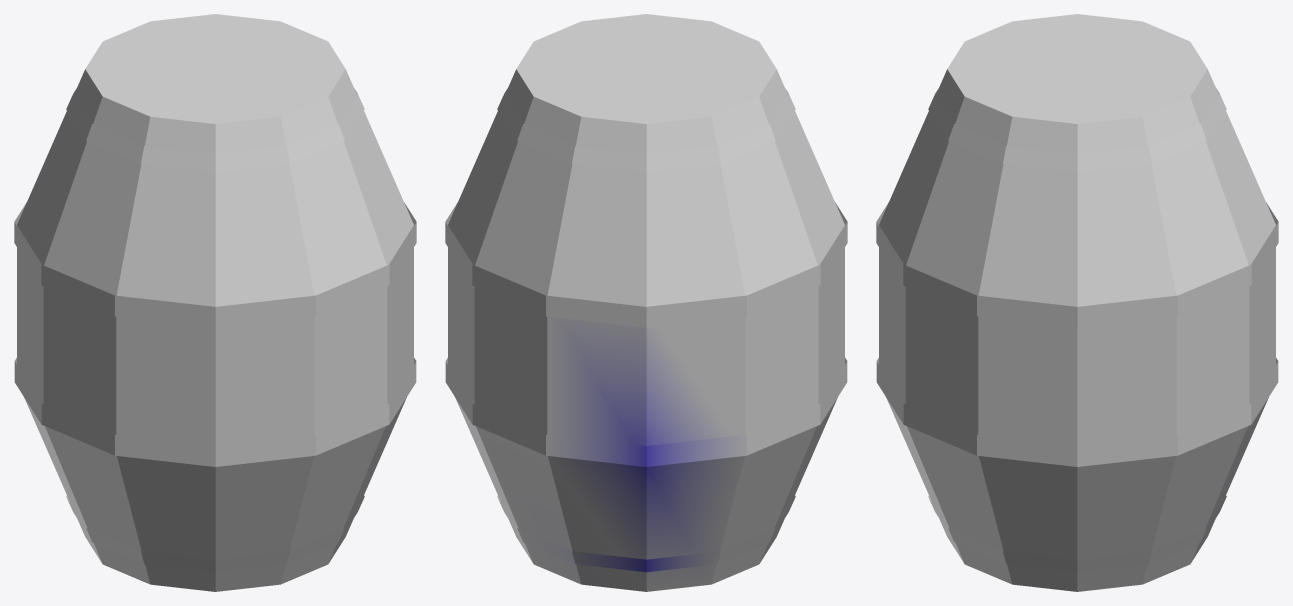
File: barrel.fbx
3 renders of one model, left to right at view 1: azimuth 30°, elevation 25°; view 2: azimuth 150°, elevation 25°; view 3: azimuth 270°, elevation 25°, orthographic.
Parts seen in each view (by area): view 1: Barrel; view 2: Barrel; view 3: Barrel.
Part boxes in pixels (x1,y1,x2,y2): Barrel: (14,14,416,591); Barrel: (445,14,847,591); Barrel: (876,14,1278,591).
Size of the model in its own units: 1.01 by 1.3 by 1.01.
